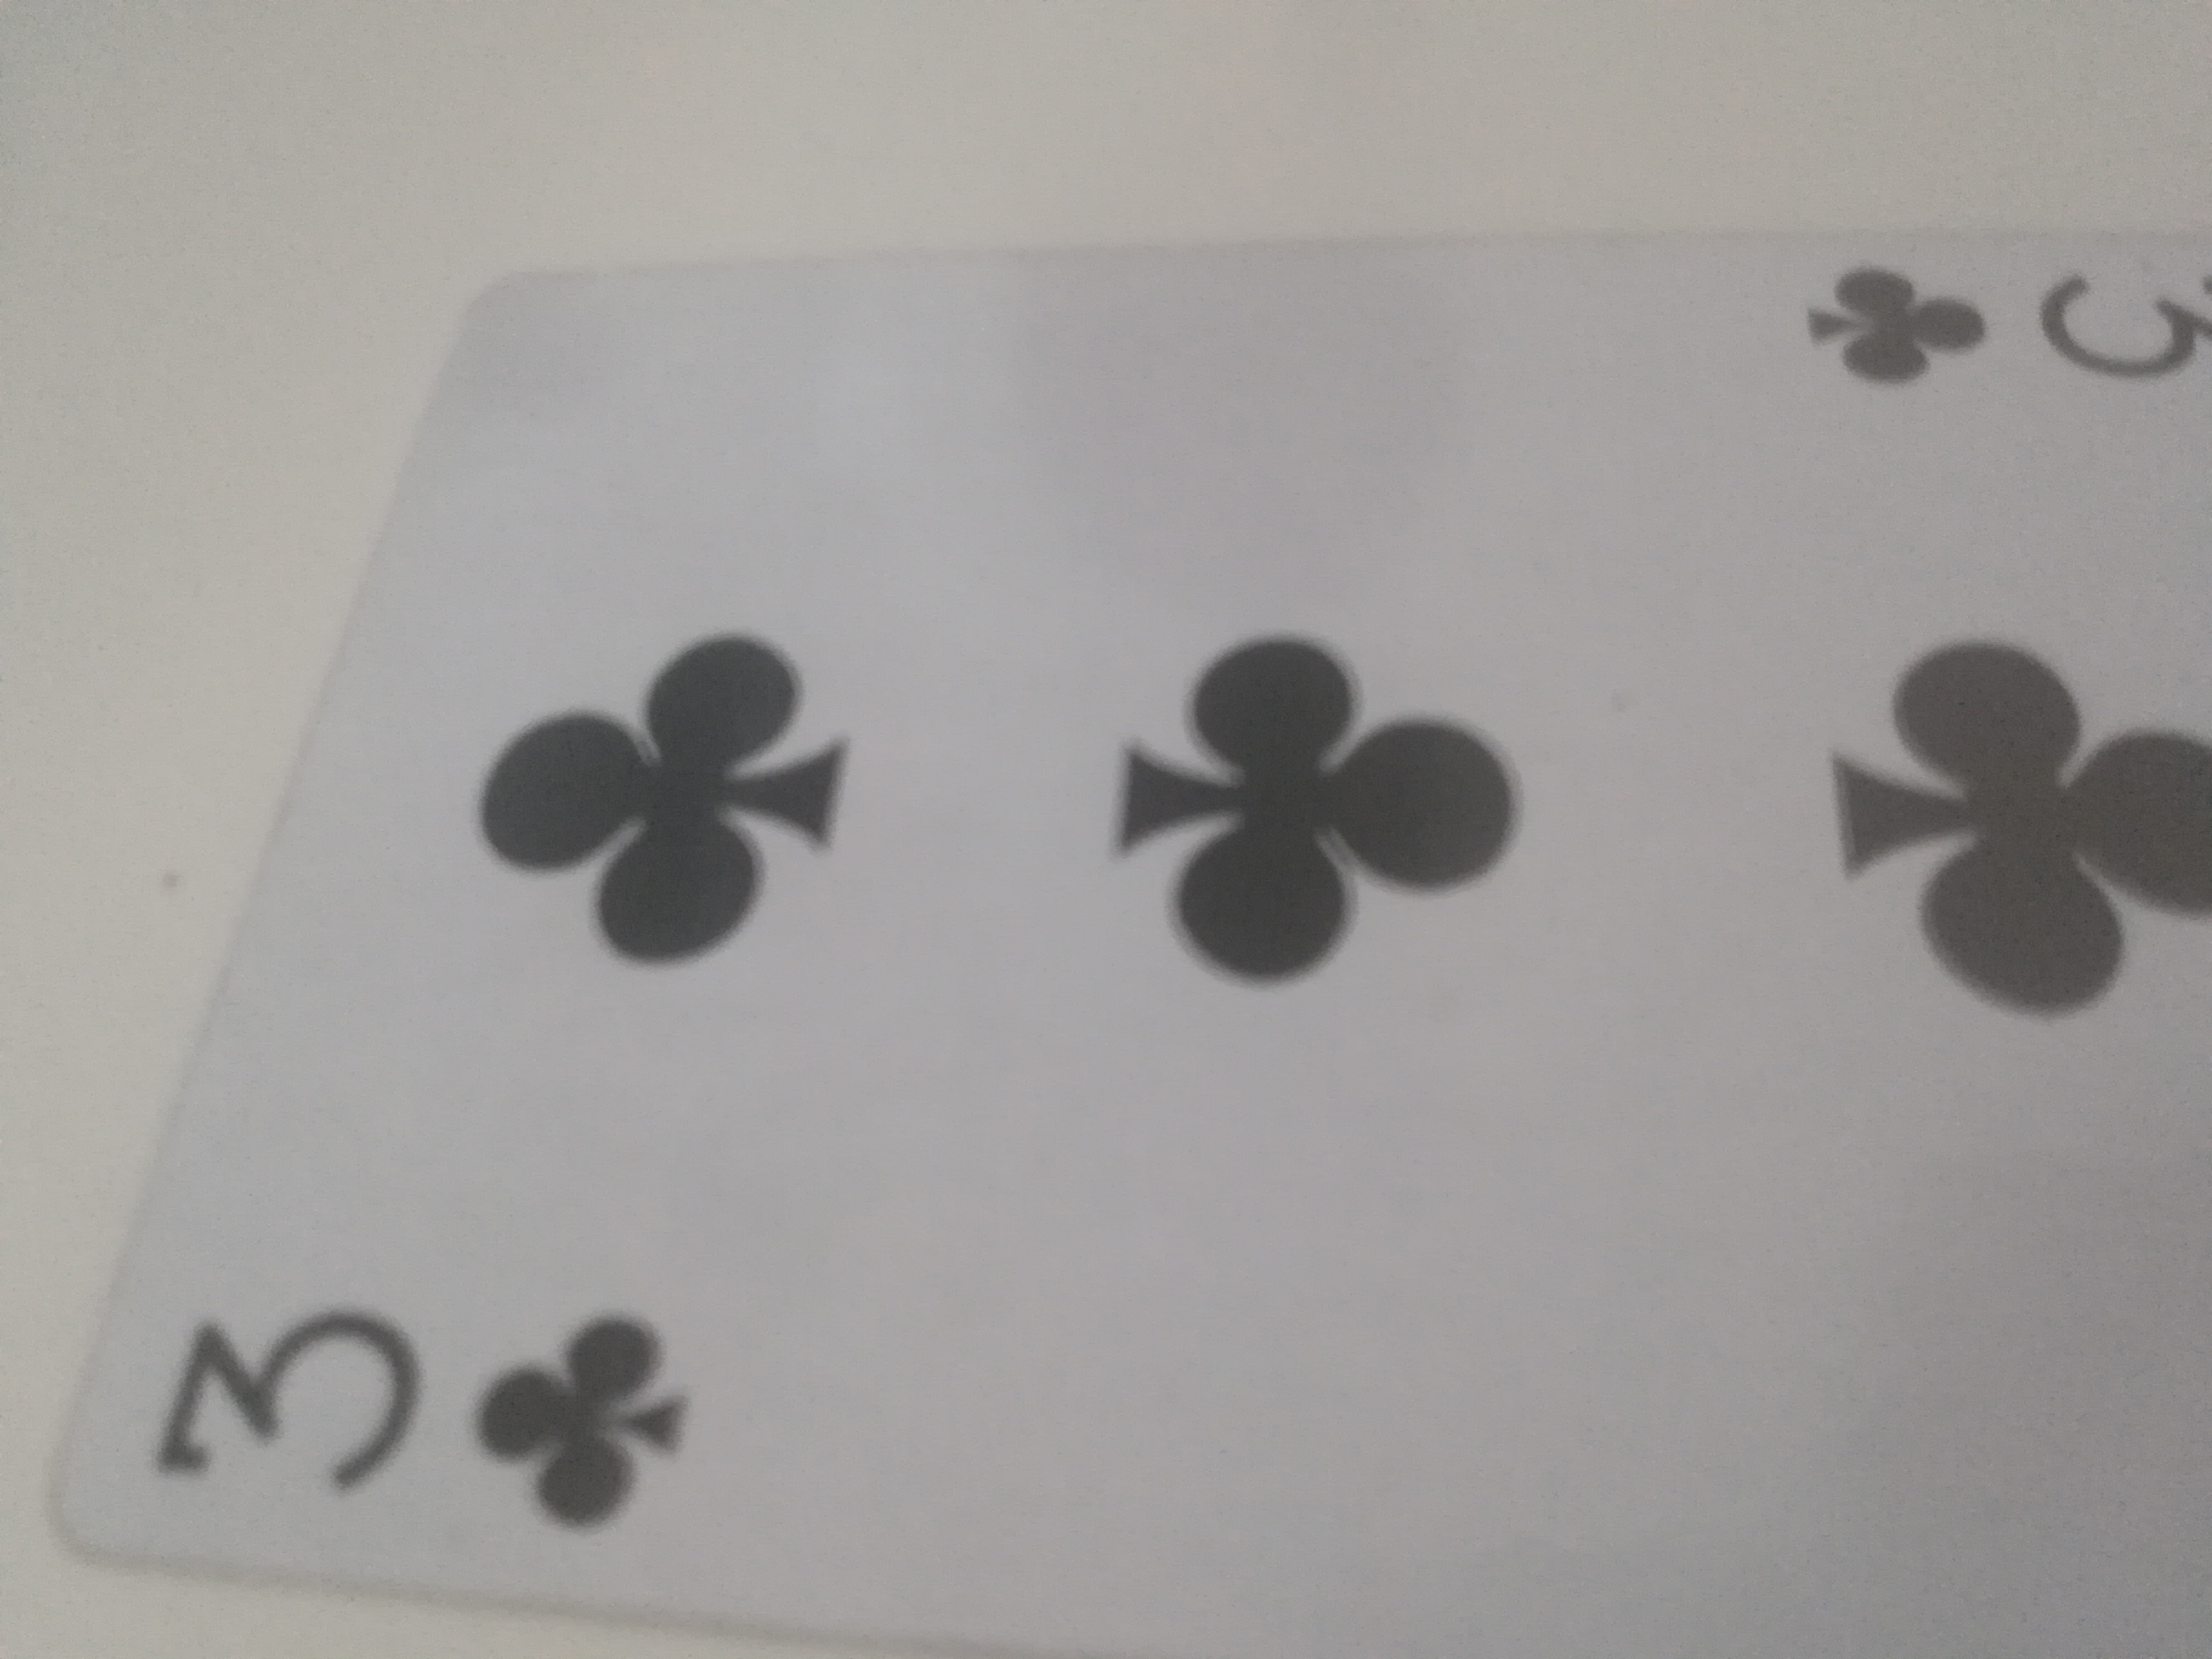3C: (49, 239, 2207, 1659)
